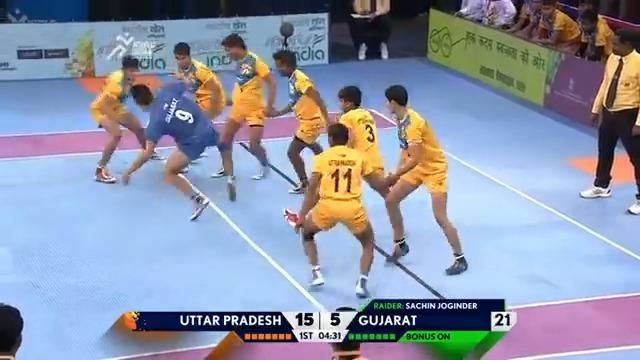Player: (284, 122, 396, 298), (381, 83, 468, 275), (328, 85, 407, 257), (212, 32, 277, 199), (89, 54, 164, 183), (265, 48, 330, 194), (167, 41, 225, 173)
Raider: (120, 74, 224, 221)
referee: (578, 27, 639, 214), (344, 0, 391, 60)
